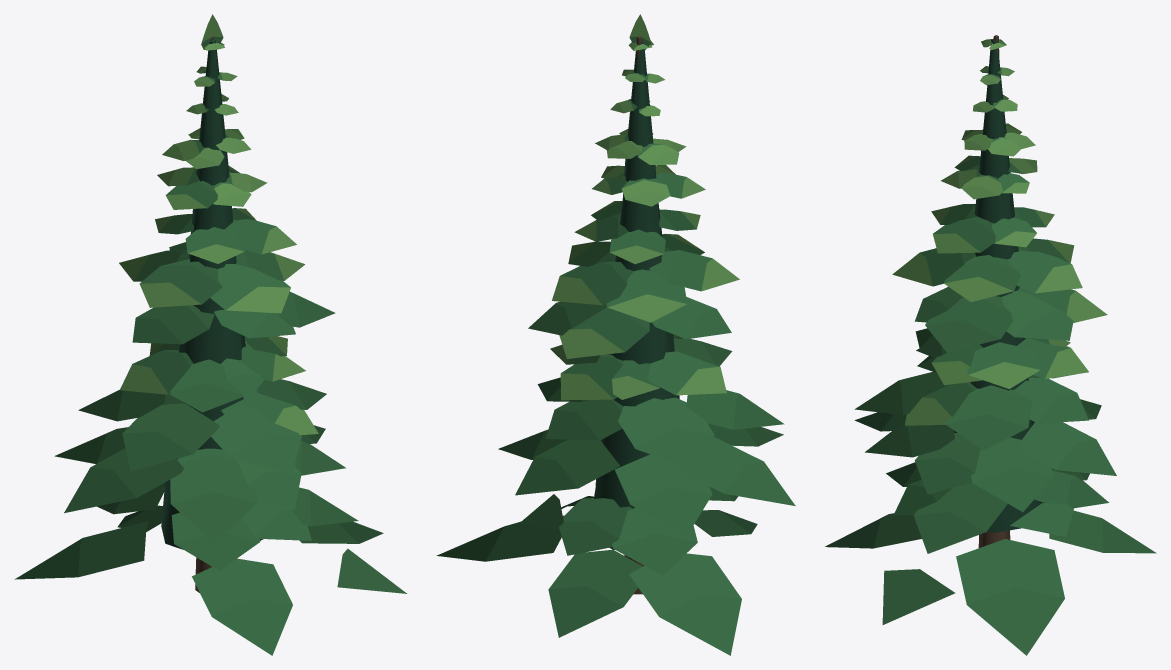
File: SpruceB_LOD.glb
3 renders of one model, left to right at view 1: azimuth 30°, elevation 25°; view 2: azimuth 150°, elevation 25°; view 3: azimuth 270°, elevation 25°, orthographic. The views are drawn at different scales.
Parts seen in each view (by area): view 1: SpruceB_LOD.needleMid, SpruceB_LOD.needleLight, SpruceB_LOD.needleDark; view 2: SpruceB_LOD.needleMid, SpruceB_LOD.needleLight, SpruceB_LOD.needleDark; view 3: SpruceB_LOD.needleMid, SpruceB_LOD.needleLight, SpruceB_LOD.needleDark.
Part boxes in pixels (x1,y1,x2,y2): SpruceB_LOD.needleMid: [14, 36, 406, 655]; SpruceB_LOD.needleLight: [119, 14, 318, 435]; SpruceB_LOD.needleDark: [161, 40, 263, 549]; SpruceB_LOD.needleMid: [436, 36, 795, 655]; SpruceB_LOD.needleLight: [550, 14, 739, 400]; SpruceB_LOD.needleDark: [594, 41, 679, 549]; SpruceB_LOD.needleMid: [825, 67, 1156, 655]; SpruceB_LOD.needleLight: [892, 39, 1107, 425]; SpruceB_LOD.needleDark: [953, 38, 1044, 532].
Bounding box in the file's own units: 21.48 × 34.8 × 18.95.
